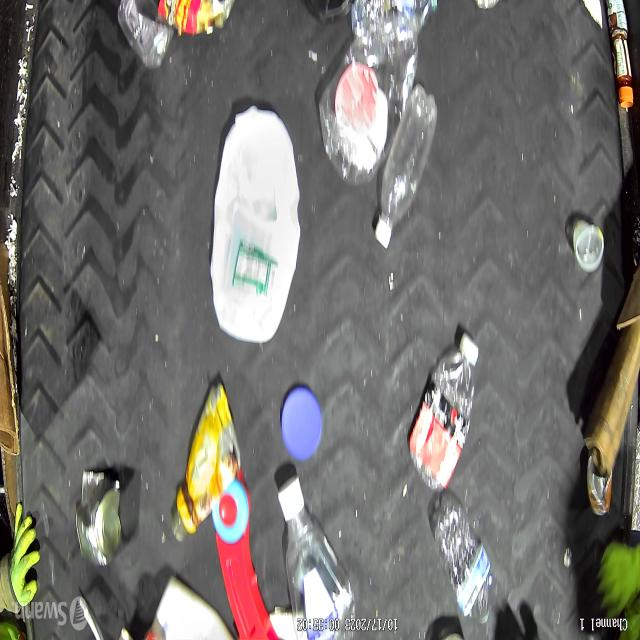can: (74, 469, 121, 569)
milk_jug: (211, 101, 301, 340)
plastic_bottle: (319, 35, 418, 186), (278, 476, 356, 640), (410, 333, 477, 497), (376, 80, 438, 251), (432, 497, 490, 628), (350, 0, 440, 45)
